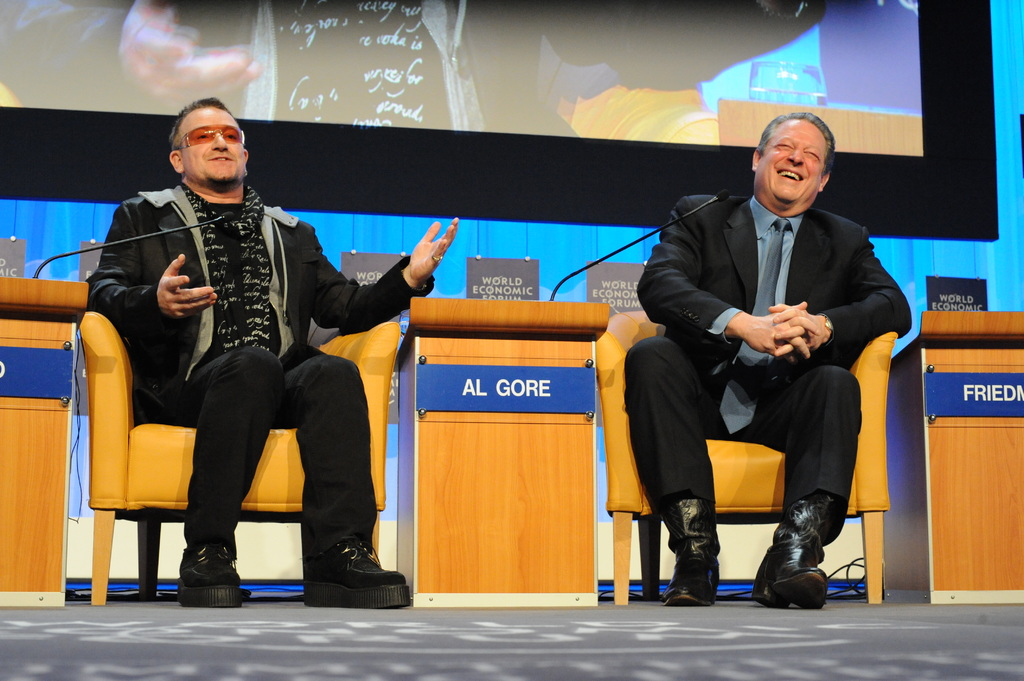Footwear: (291, 541, 412, 612), (772, 510, 846, 614), (662, 504, 716, 607), (181, 543, 243, 607)
